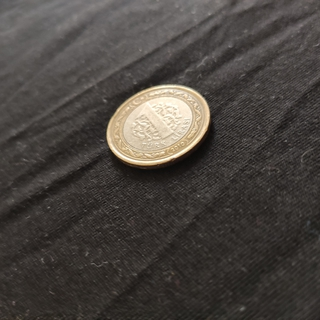1TL: (103, 81, 212, 171)
